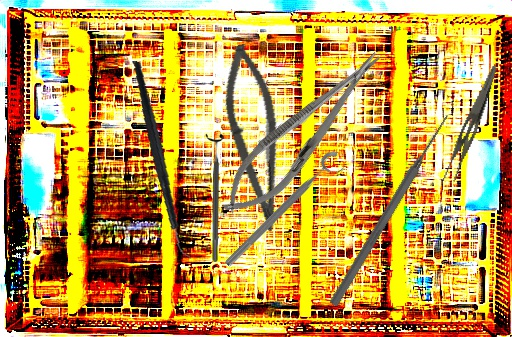Chopper: (109, 60, 218, 260)
Dressing Forceps: (438, 59, 499, 192)
Fixation Ring: (221, 147, 350, 276), (205, 133, 225, 262)
Micro Scissor: (211, 40, 303, 235)
Needle Holder: (208, 37, 398, 230)
Pusher: (327, 111, 454, 309)
